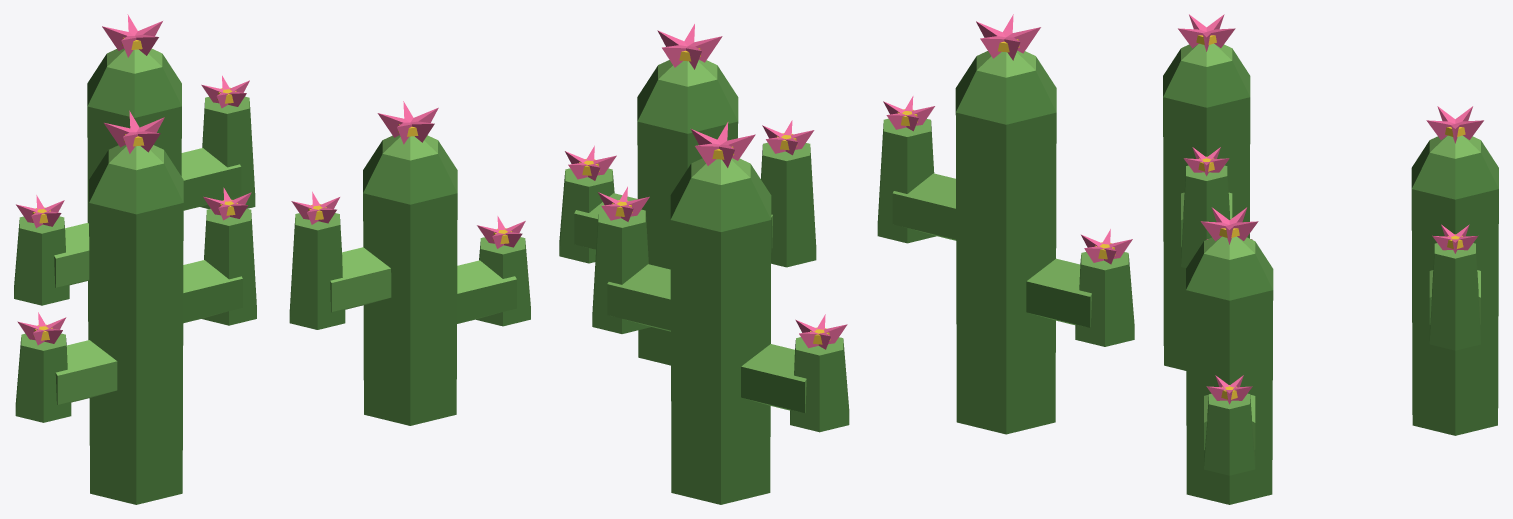
Rendered from cactus-4.glb.
The picture shows the model from 3 angles, left to right: view 1: azimuth 30°, elevation 25°; view 2: azimuth 150°, elevation 25°; view 3: azimuth 270°, elevation 25°; orthographic projection. The views are drawn at different scales.
Visible parts, largest first — view 1: cactus-4; view 2: cactus-4; view 3: cactus-4.
Boxes of the visible parts, left/top/right/bottom form: cactus-4: left=14, top=14, right=530, bottom=504; cactus-4: left=559, top=14, right=1134, bottom=504; cactus-4: left=1163, top=14, right=1498, bottom=504.
Size of the model in its own units: 0.7965 by 0.537 by 0.476.
1 material, 1 textured.
